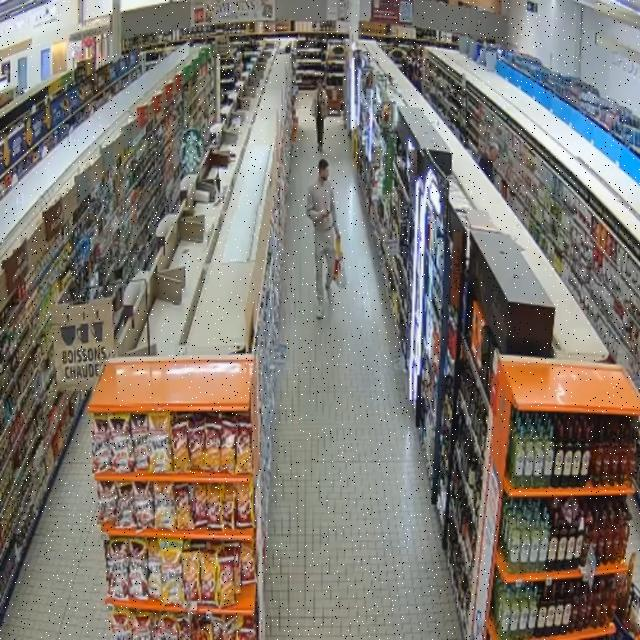bags: (334, 239, 347, 288)
hands: (323, 211, 330, 218), (336, 233, 341, 241)
person: (307, 159, 339, 319), (312, 80, 328, 151)
